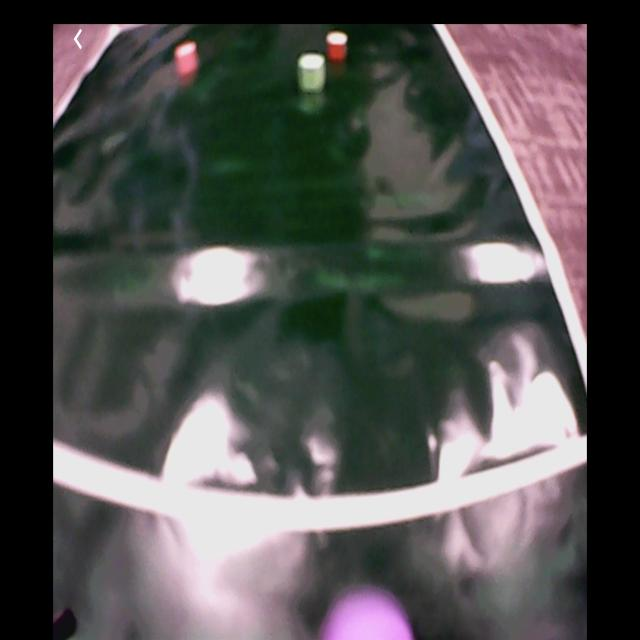ball: (320, 593, 418, 640)
